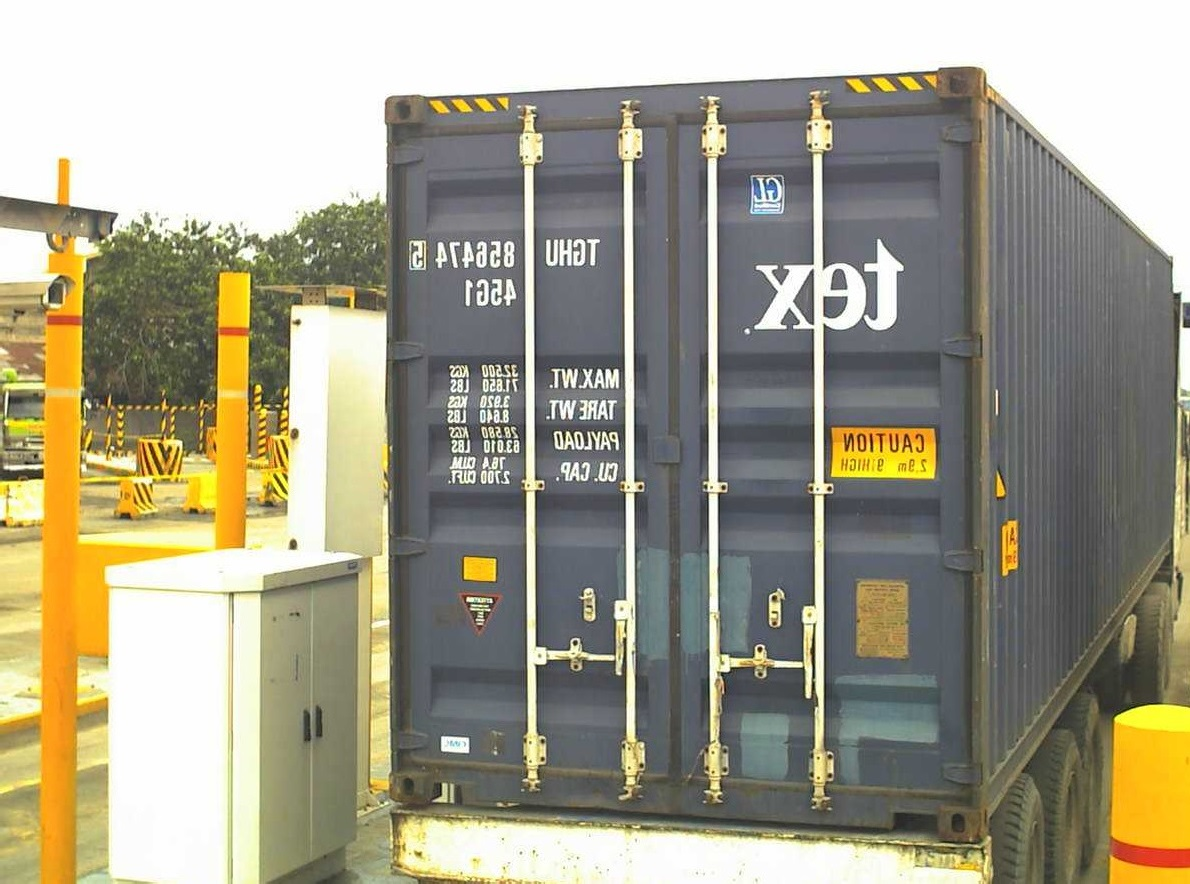container_door: (377, 68, 984, 815)
